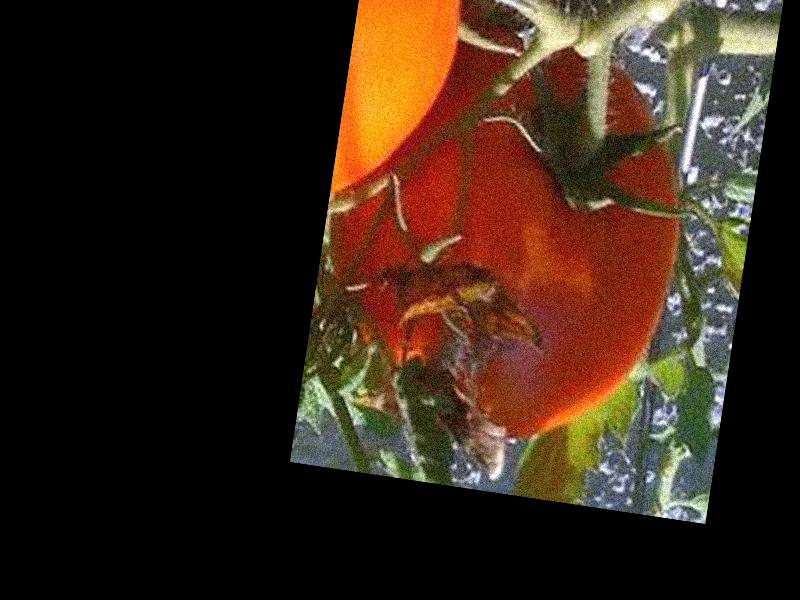Tomato: (308, 14, 705, 463)
